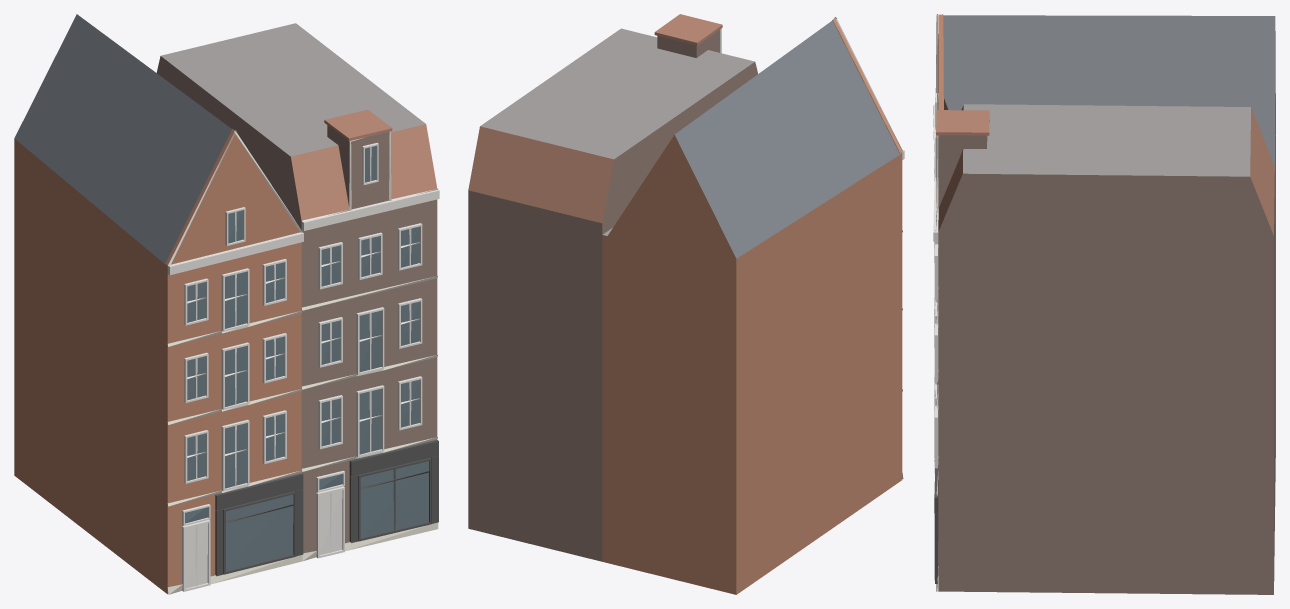
File: chunk-face-bilder-157757-164549.lod2.glb
The picture shows the model from 3 angles, left to right: view 1: azimuth 30°, elevation 25°; view 2: azimuth 150°, elevation 25°; view 3: azimuth 270°, elevation 25°; orthographic projection. The views are drawn at different scales.
Parts seen in each view (by area): view 1: lod2; view 2: lod2; view 3: lod2.
Part boxes in pixels (box(x1,y1,x2,y2)): lod2: box(14, 14, 439, 594); lod2: box(468, 14, 904, 594); lod2: box(933, 14, 1275, 594).
Size of the model in its own units: 12.13 by 18.77 by 12.32.
